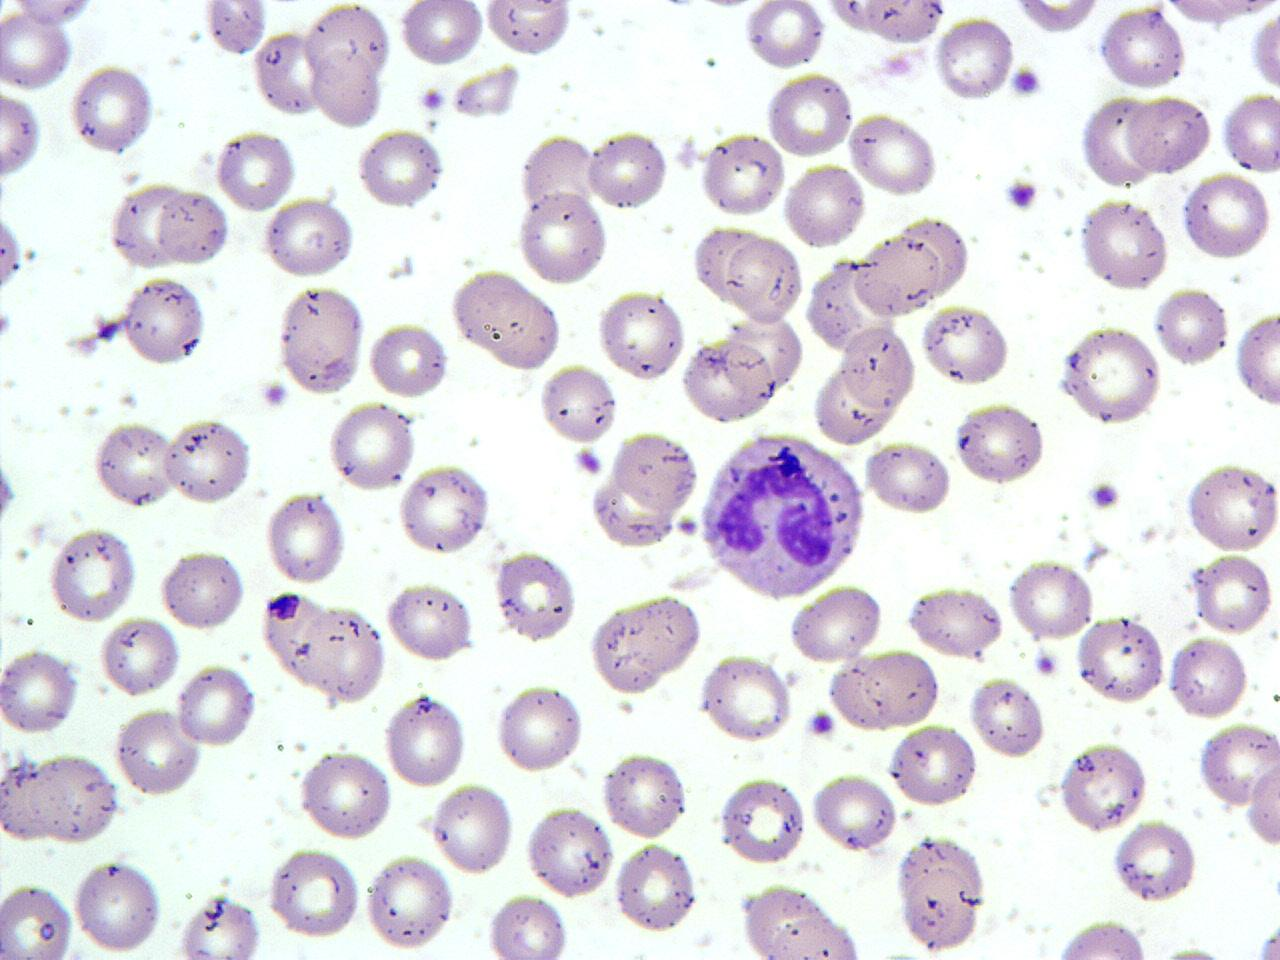Platelets: (451, 65, 524, 119), (0, 209, 24, 288), (1001, 176, 1041, 212), (0, 458, 19, 526), (1009, 65, 1045, 100), (1087, 478, 1123, 512), (257, 376, 290, 412), (572, 446, 606, 478), (880, 52, 916, 80), (806, 708, 836, 740), (418, 85, 449, 115), (268, 589, 303, 614), (1256, 927, 1280, 960), (95, 316, 124, 343), (675, 512, 703, 538), (1031, 650, 1057, 676), (654, 0, 702, 13), (0, 308, 15, 342), (1269, 868, 1280, 908), (920, 834, 938, 848)
RBC: (587, 592, 703, 695), (449, 268, 562, 371), (894, 835, 988, 954), (1059, 324, 1165, 426), (274, 283, 368, 396), (301, 2, 392, 113), (71, 857, 165, 956), (363, 851, 456, 952), (397, 460, 494, 556), (47, 524, 138, 626), (266, 847, 364, 941), (515, 191, 609, 286), (494, 681, 588, 775), (1078, 196, 1170, 292), (740, 882, 854, 960), (1183, 460, 1277, 554), (525, 804, 617, 899), (297, 750, 394, 841), (595, 289, 688, 382), (1074, 614, 1168, 707), (716, 774, 810, 866), (1180, 170, 1274, 262), (1057, 740, 1149, 834), (600, 748, 690, 840), (29, 752, 118, 846), (382, 692, 469, 788), (493, 548, 579, 644), (430, 779, 515, 877), (699, 652, 791, 742), (846, 111, 941, 197), (264, 488, 348, 586), (112, 705, 202, 796), (1097, 3, 1187, 93), (680, 336, 774, 423), (951, 400, 1046, 486), (163, 416, 253, 506), (765, 70, 854, 160), (69, 63, 154, 156), (613, 840, 698, 934), (260, 588, 340, 689), (328, 402, 416, 492), (886, 721, 978, 808), (919, 301, 1012, 386), (122, 274, 207, 368), (788, 584, 886, 664), (91, 419, 177, 509), (1109, 818, 1199, 904), (262, 197, 357, 278), (1007, 555, 1095, 642), (382, 579, 475, 662), (905, 584, 1007, 658), (852, 234, 942, 318), (1125, 93, 1213, 177), (158, 547, 247, 631), (518, 132, 598, 226), (1078, 94, 1160, 185), (313, 603, 387, 703), (1167, 632, 1249, 722), (612, 430, 698, 513), (701, 131, 785, 218), (0, 644, 79, 736), (1191, 550, 1275, 635), (782, 162, 866, 248), (1197, 720, 1279, 808), (357, 128, 444, 210), (98, 614, 181, 699), (586, 128, 670, 212), (935, 14, 1015, 103), (214, 128, 296, 213), (176, 663, 256, 749), (109, 182, 186, 270), (840, 323, 916, 412), (812, 770, 898, 850), (967, 673, 1046, 758), (864, 439, 952, 515), (892, 213, 973, 296), (538, 362, 618, 446), (728, 234, 803, 322), (861, 648, 942, 728), (367, 320, 450, 398), (826, 650, 904, 734), (1152, 284, 1230, 368), (252, 29, 325, 117), (811, 367, 891, 447), (311, 45, 386, 130), (156, 186, 232, 268), (0, 7, 74, 91), (690, 223, 766, 304), (0, 879, 74, 960), (398, 0, 484, 69), (484, 892, 570, 960), (745, 0, 827, 71), (175, 895, 263, 959), (483, 0, 574, 56), (1219, 91, 1279, 174), (1234, 311, 1280, 410), (450, 63, 525, 120), (860, 0, 948, 46), (1050, 918, 1152, 958), (0, 90, 45, 179), (200, 0, 268, 58), (1008, 0, 1104, 35), (1245, 758, 1279, 851), (1, 0, 102, 29), (1248, 8, 1280, 99), (0, 208, 23, 294)
WBC: (695, 428, 869, 602), (590, 594, 702, 696), (9, 748, 126, 846)
